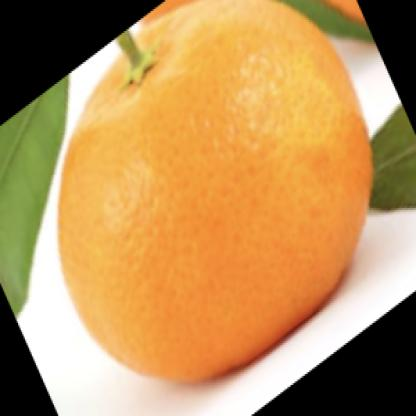fresh: (61, 8, 375, 378)
